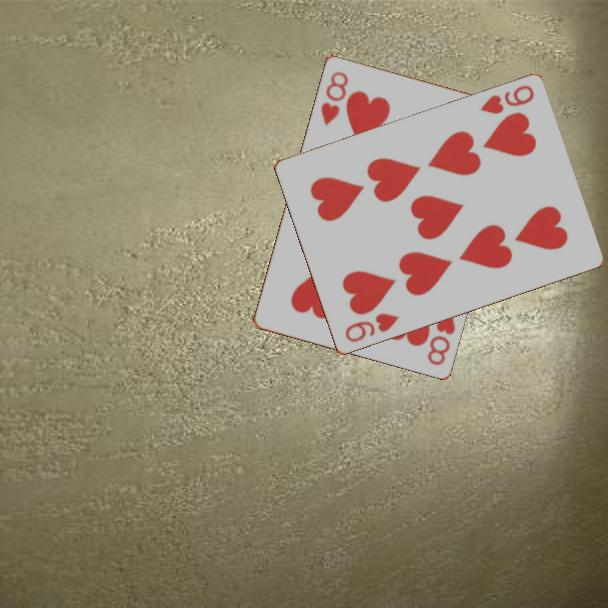h08: (423, 307, 458, 368), (317, 68, 351, 128)
h09: (341, 310, 402, 346), (476, 82, 537, 117)
